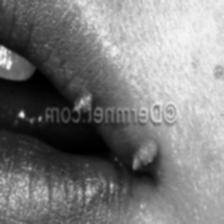Toxin: (125, 132, 158, 194)
